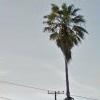Palm tree: (39, 1, 100, 89)
